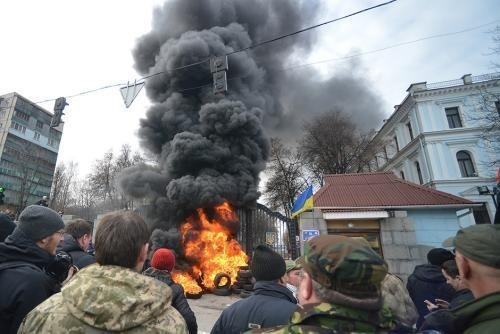fire: (173, 202, 248, 292)
